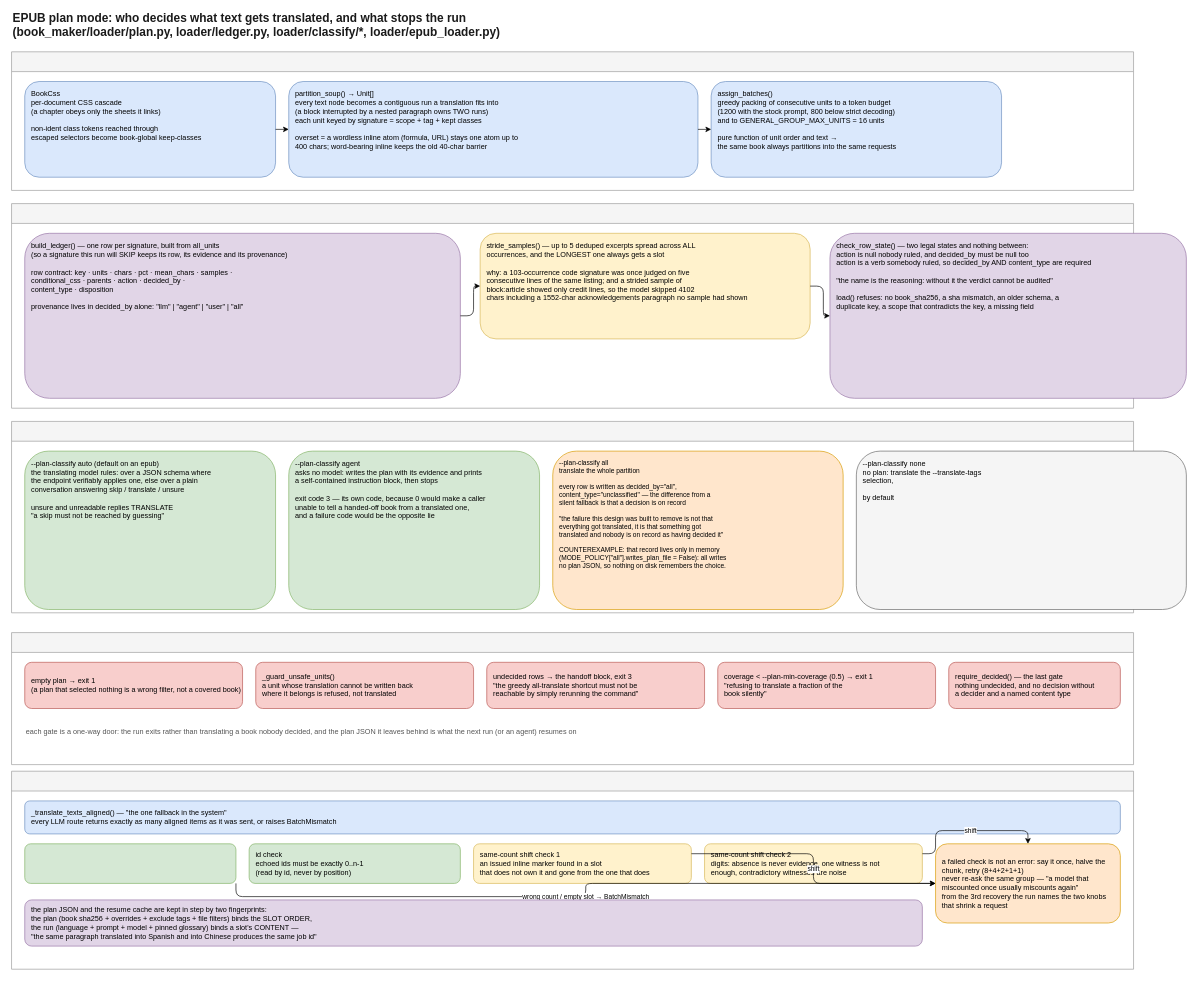
This 1198x981 diagram has some shape labels left out. Here are the shapes that lost their labels. From the top down, the box of each, then its label:
(11, 51, 1134, 190): 1. Partition (what text exists)
(11, 203, 1134, 408): 2. Record the questions (the ledger is a record, not a report)
(11, 421, 1134, 613): 3. Classify — four modes, and deliberately no fifth
(11, 632, 1134, 765): 4. Fail-closed gates before any money is spent
(24, 843, 236, 883): count check _check_batch: right count, no empty slot
(11, 771, 1134, 969): 5. Translate grouped requests, then prove the reply still lines up
